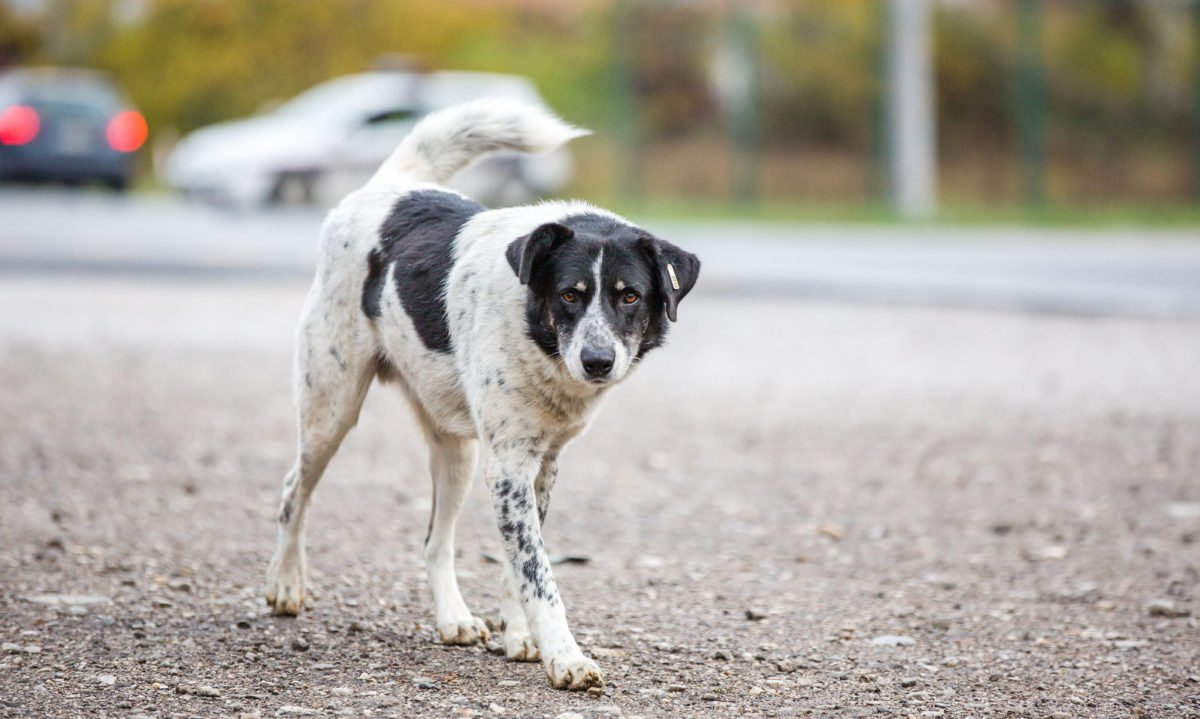Dog: (256, 95, 677, 698)
